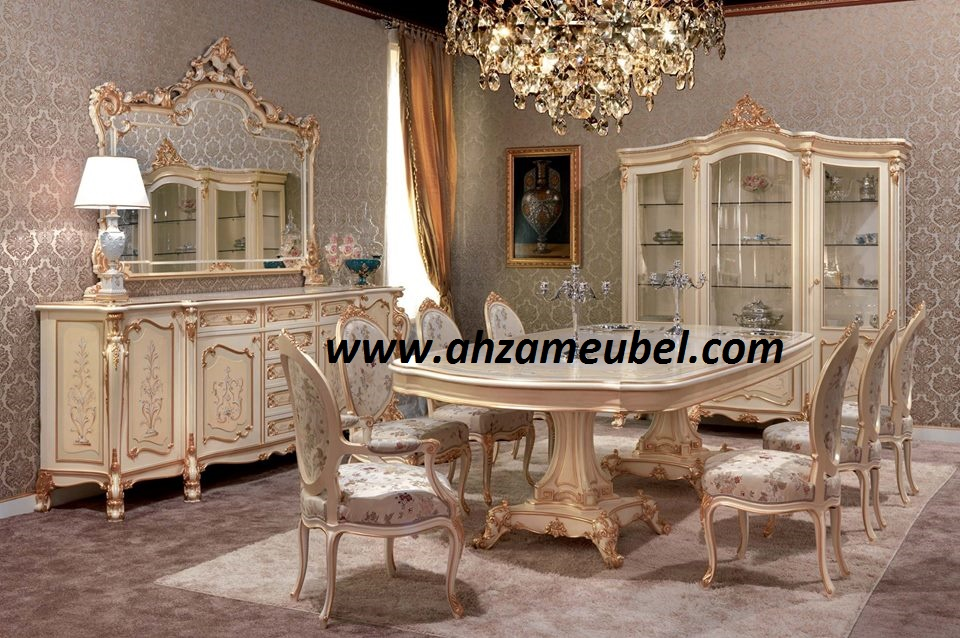Carving Chair: (268, 335, 491, 638), (708, 337, 887, 598)
Carving Table: (381, 310, 844, 562)
